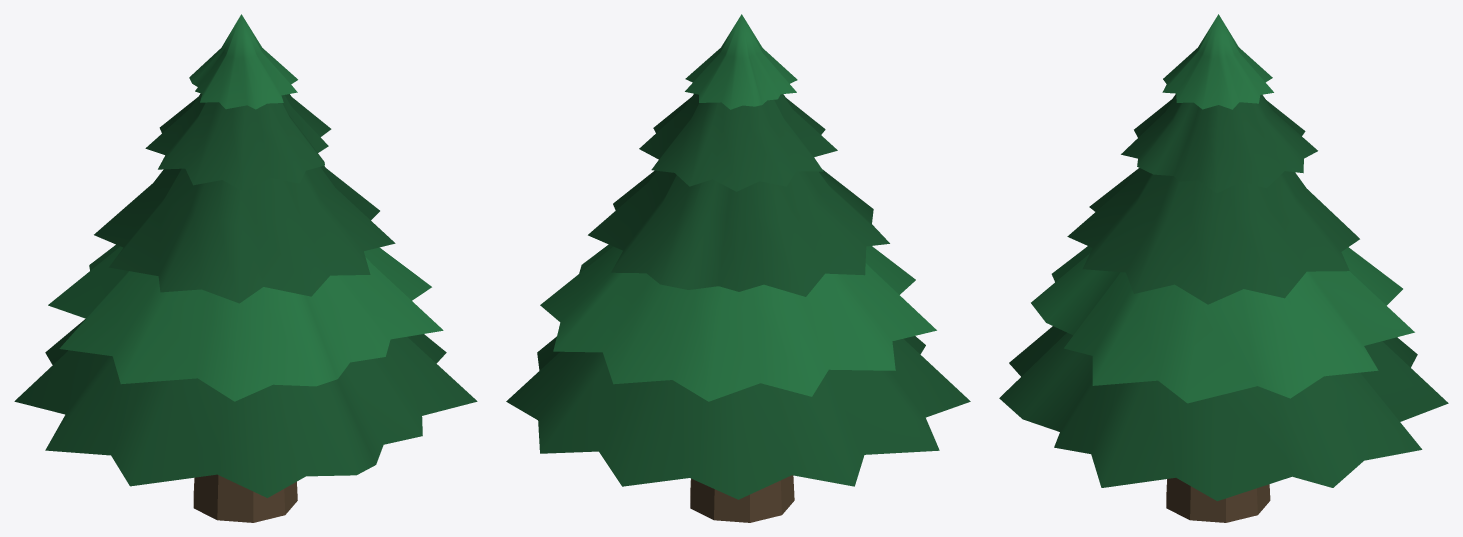
File: SM_PineTree_1.fbx
3 renders of one model, left to right at view 1: azimuth 30°, elevation 25°; view 2: azimuth 150°, elevation 25°; view 3: azimuth 270°, elevation 25°, orthographic.
Parts seen in each view (by area): view 1: Circle, Circle.001, Circle.002, Circle.003, Circle.004, Cylinder; view 2: Circle, Circle.001, Circle.002, Circle.003, Circle.004, Cylinder; view 3: Circle, Circle.001, Circle.002, Circle.003, Circle.004, Cylinder.
Boxes of the visible parts, x1,y1,x2,y2 form: Circle: [14, 319, 477, 497]; Circle.001: [48, 244, 443, 401]; Circle.002: [94, 166, 395, 303]; Circle.003: [145, 93, 331, 191]; Circle.004: [189, 14, 297, 109]; Cylinder: [193, 474, 297, 522]; Circle: [506, 336, 970, 499]; Circle.001: [540, 244, 936, 401]; Circle.002: [588, 169, 889, 296]; Circle.003: [639, 93, 837, 191]; Circle.004: [685, 14, 797, 109]; Cylinder: [690, 475, 794, 522]; Circle: [999, 326, 1448, 501]; Circle.001: [1031, 246, 1414, 403]; Circle.002: [1067, 168, 1359, 304]; Circle.003: [1121, 94, 1317, 193]; Circle.004: [1162, 14, 1273, 109]; Cylinder: [1166, 478, 1270, 522].
Size of the model in its own units: 171 by 198 by 166.
